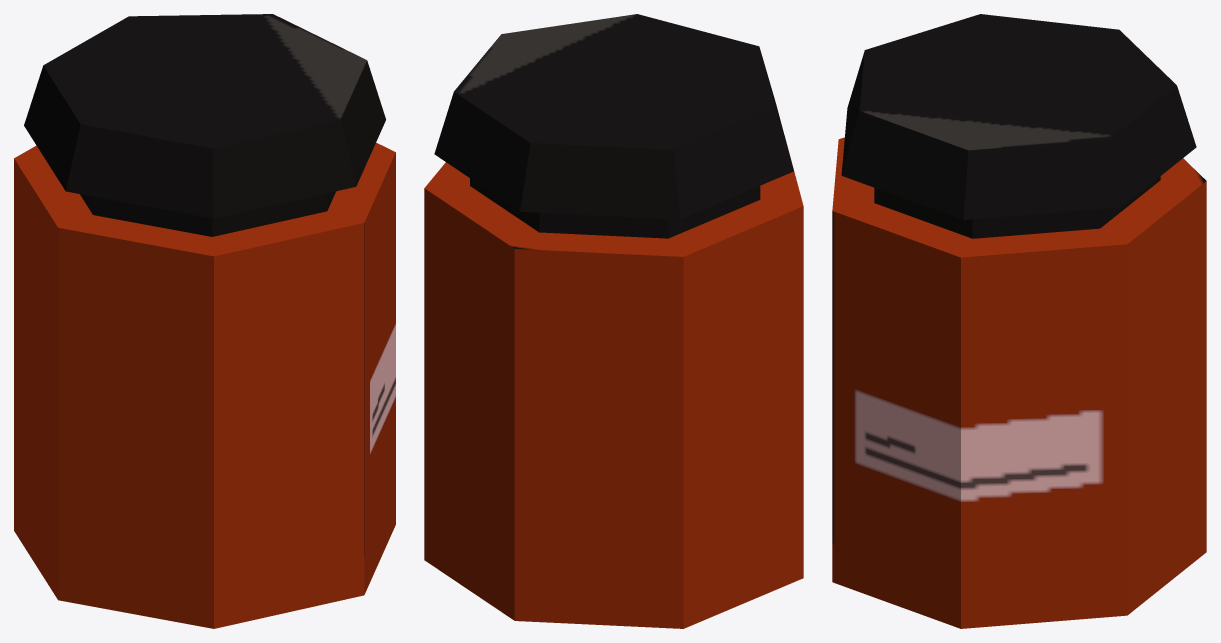
The model's file is bookShelfJar.obj.
3 views of the same model, side by side, from view 1: azimuth 30°, elevation 25°; view 2: azimuth 150°, elevation 25°; view 3: azimuth 270°, elevation 25° (orthographic).
Parts seen in each view (by area): view 1: Cylinder; view 2: Cylinder; view 3: Cylinder.
Boxes of the visible parts, x1,y1,x2,y2 form: Cylinder: [14, 14, 395, 628]; Cylinder: [424, 14, 803, 628]; Cylinder: [832, 14, 1206, 628].
Bounding box in the file's own units: 0.6355 × 0.8591 × 0.6248.
1 material, 1 textured.
